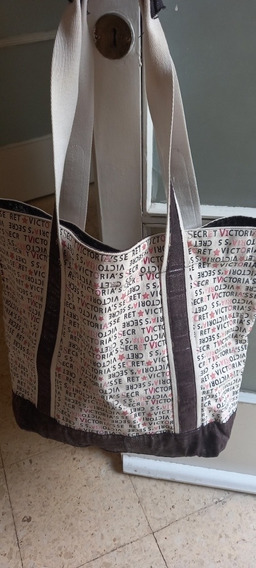cartera: (4, 1, 256, 463)
